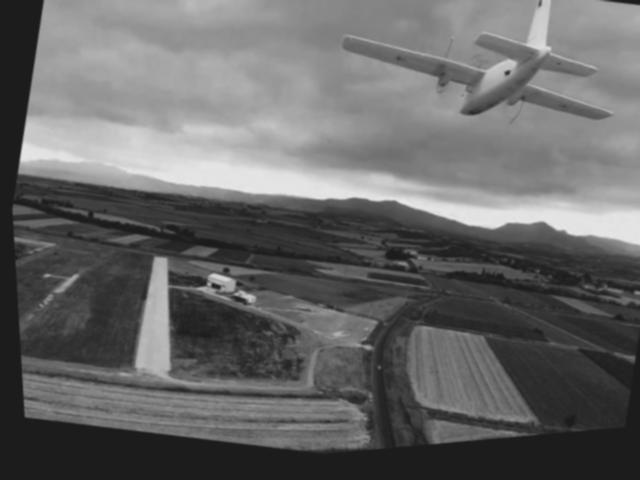hedef: (320, 0, 640, 177)
